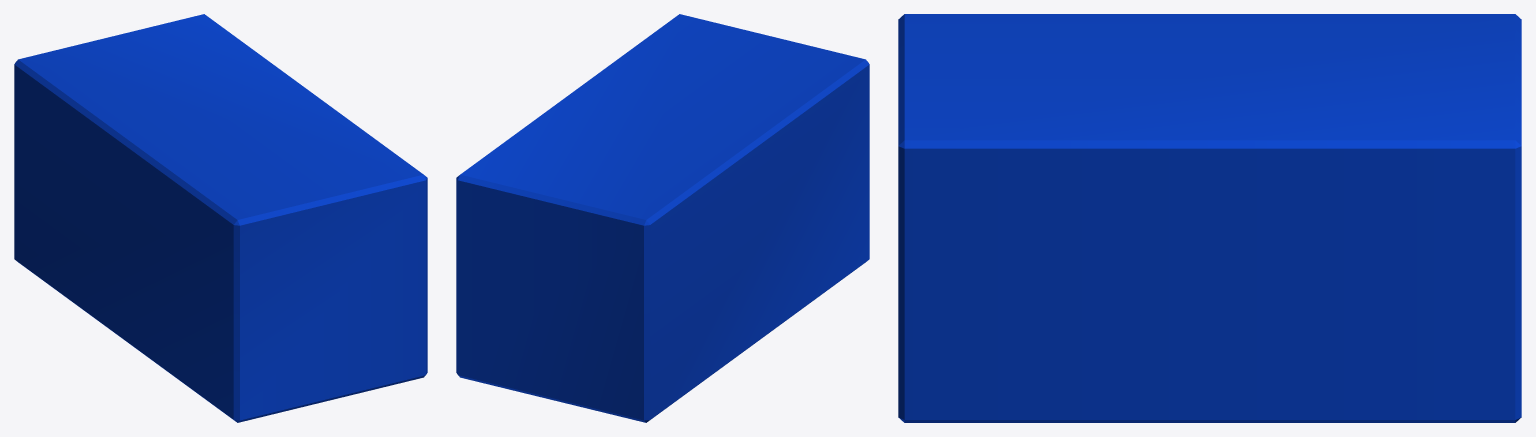
3 views of the same model, side by side, from view 1: azimuth 30°, elevation 25°; view 2: azimuth 150°, elevation 25°; view 3: azimuth 270°, elevation 25° (orthographic). The views are drawn at different scales.
Parts seen in each view (by area): view 1: Cube.002; view 2: Cube.002; view 3: Cube.002.
Part boxes in pixels (x1,y1,x2,y2): Cube.002: [14, 14, 427, 422]; Cube.002: [456, 14, 869, 422]; Cube.002: [898, 14, 1521, 422].
Bounding box in the file's own units: 100 × 100 × 200.
